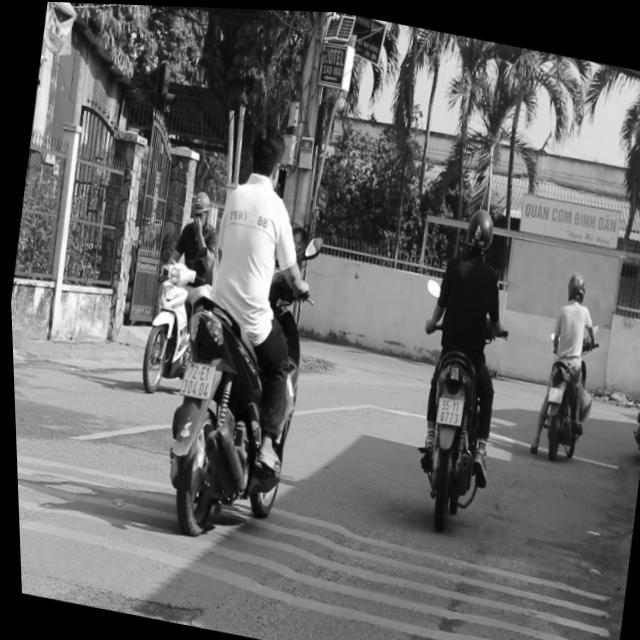helmet: (457, 200, 495, 257), (185, 185, 210, 222), (560, 264, 586, 299)
licenseplate: (139, 107, 344, 548), (390, 193, 528, 527), (128, 176, 221, 399), (520, 259, 609, 459)
motorcyclist: (240, 118, 288, 189)
nohelmet: (175, 357, 210, 397), (431, 391, 460, 421), (544, 380, 560, 397)
